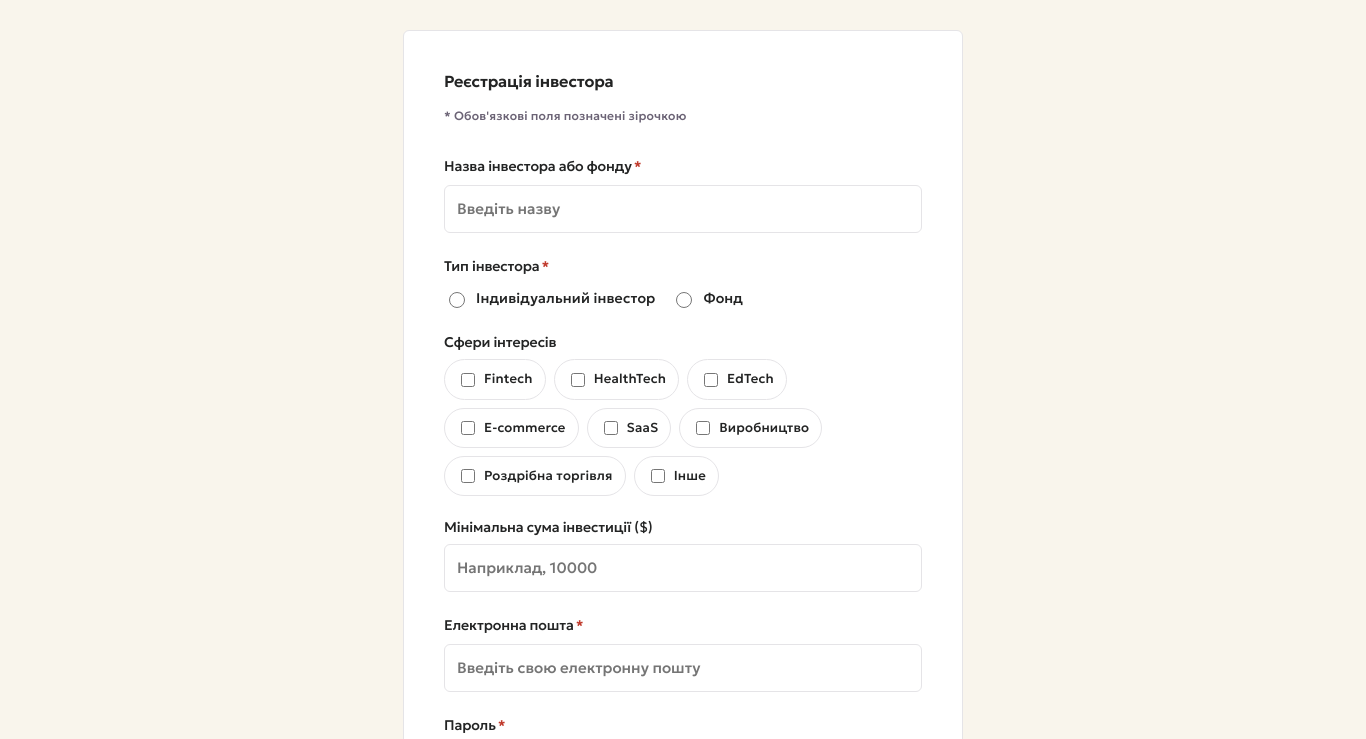
Test case: RegisterInvestor › blocks submit when terms are not accepted, even if everything else is valid
This screenshot has width=1366, height=739.
In the field labelled "Назва інвестора або фонду": (683,209) [444,185,922,233], type "Acme Capital"
Click the radio button labelled "Індивідуальний інвестор": (457,300) [449,292,465,308]
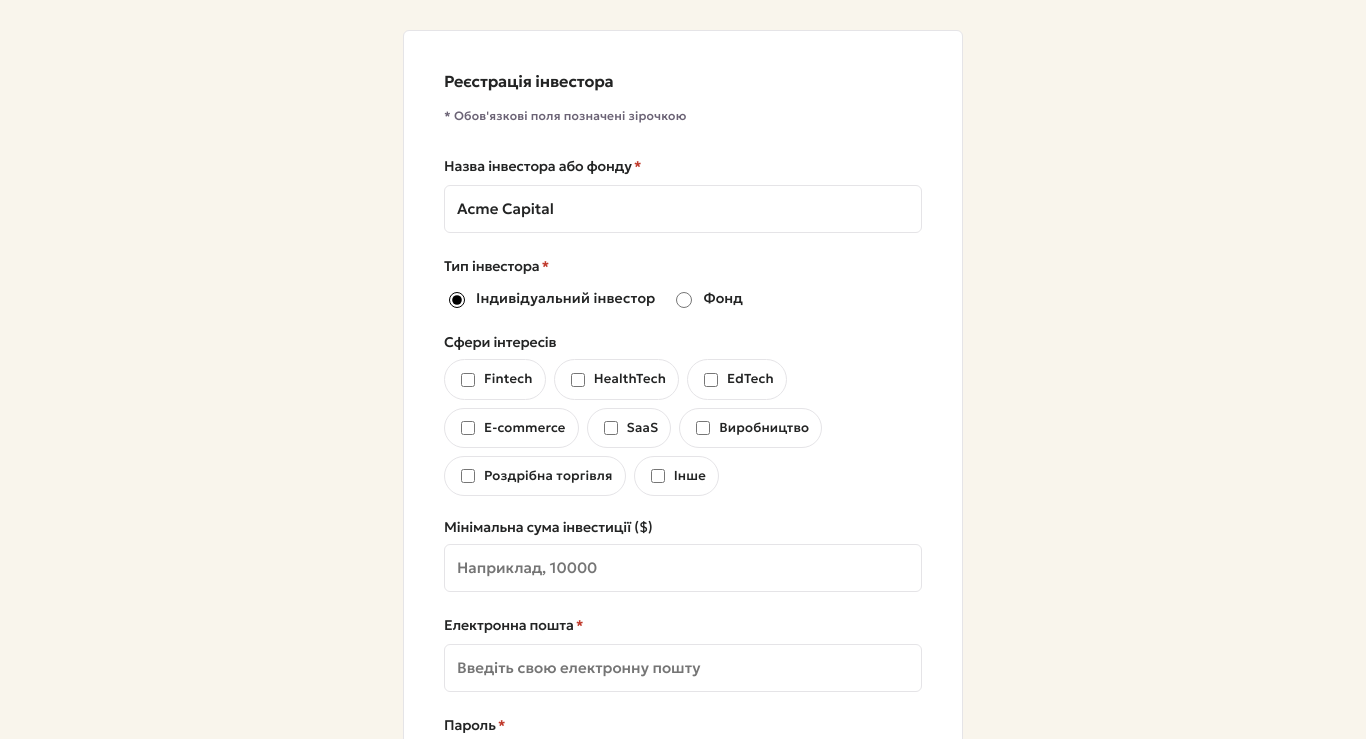
In the field labelled "Електронна пошта": (683,668) [444,644,922,692], type "alice@example.com"
(page scrolled)
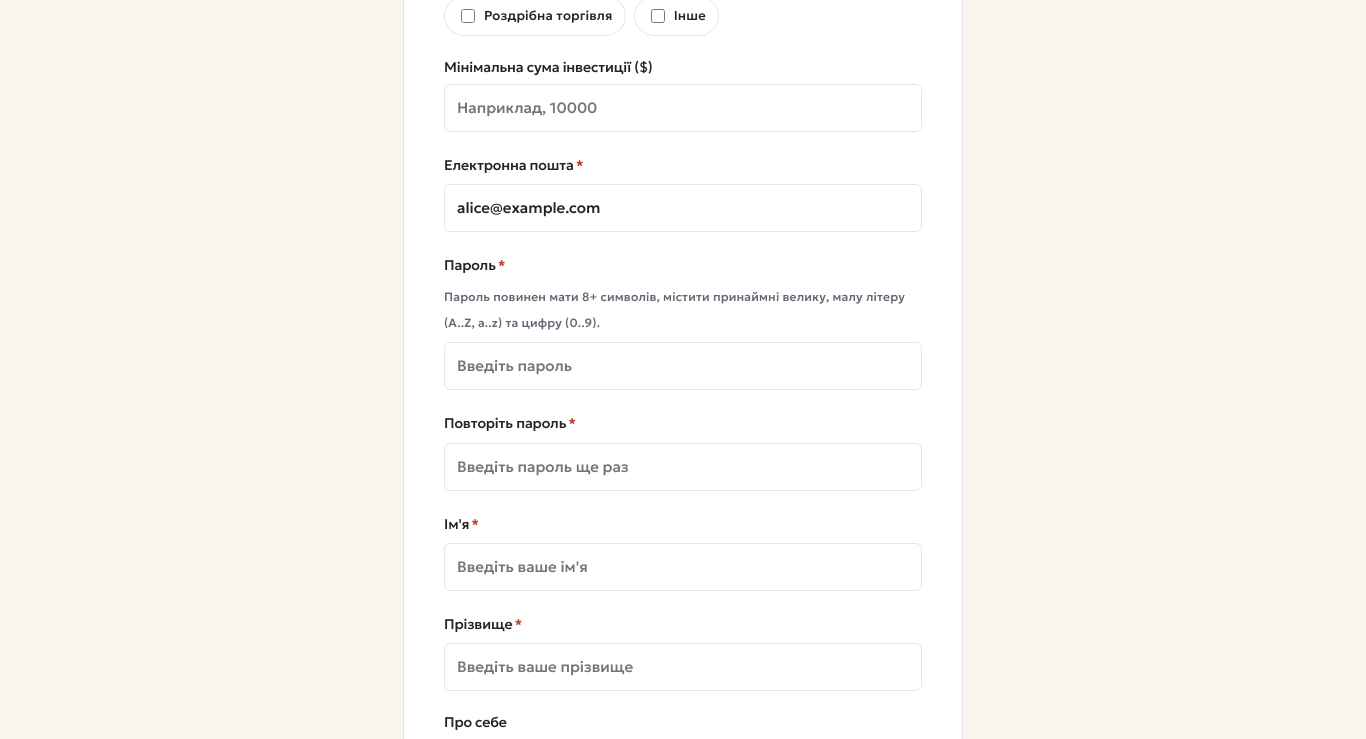
In the password field labelled "Пароль": (683,366) [444,342,922,390], type "StrongPass123"
In the password field labelled "Повторіть пароль": (683,467) [444,442,922,491], type "StrongPass123"
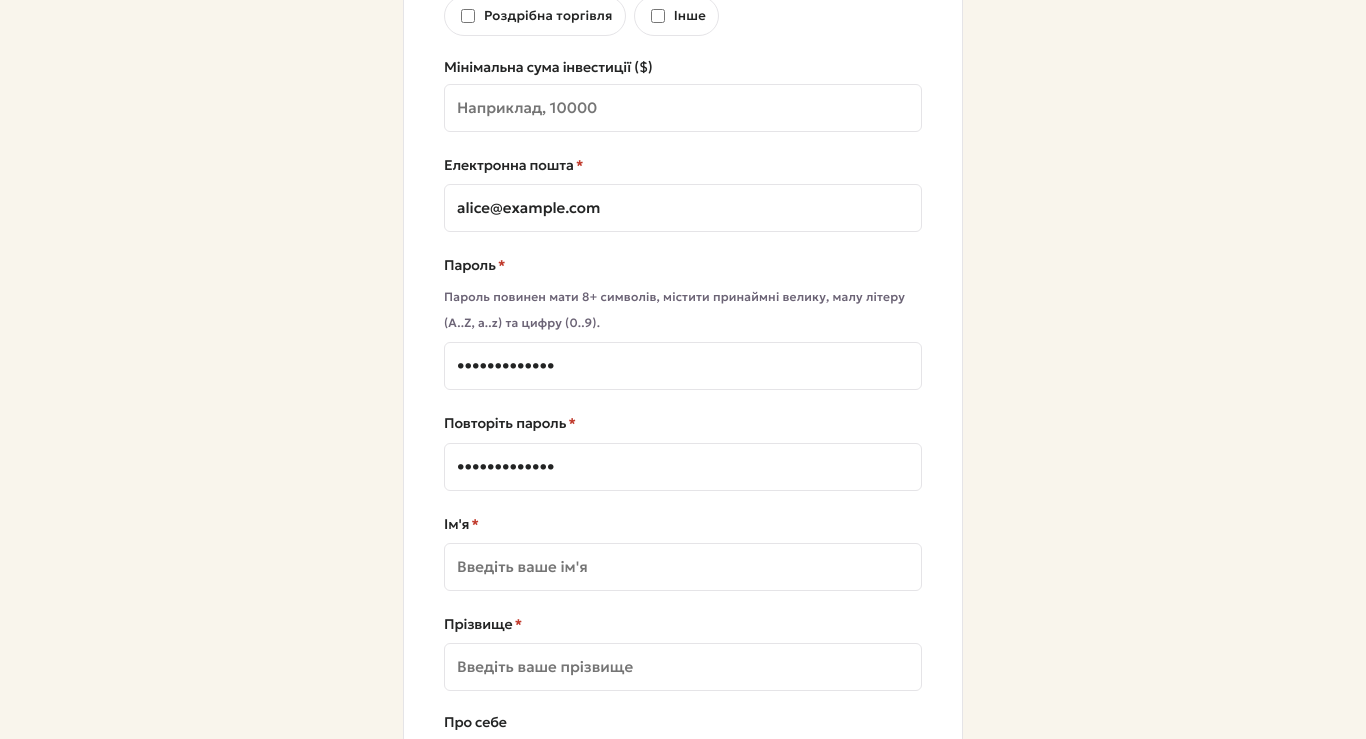
In the field labelled "Ім'я": (683,567) [444,543,922,591], type "Alice"
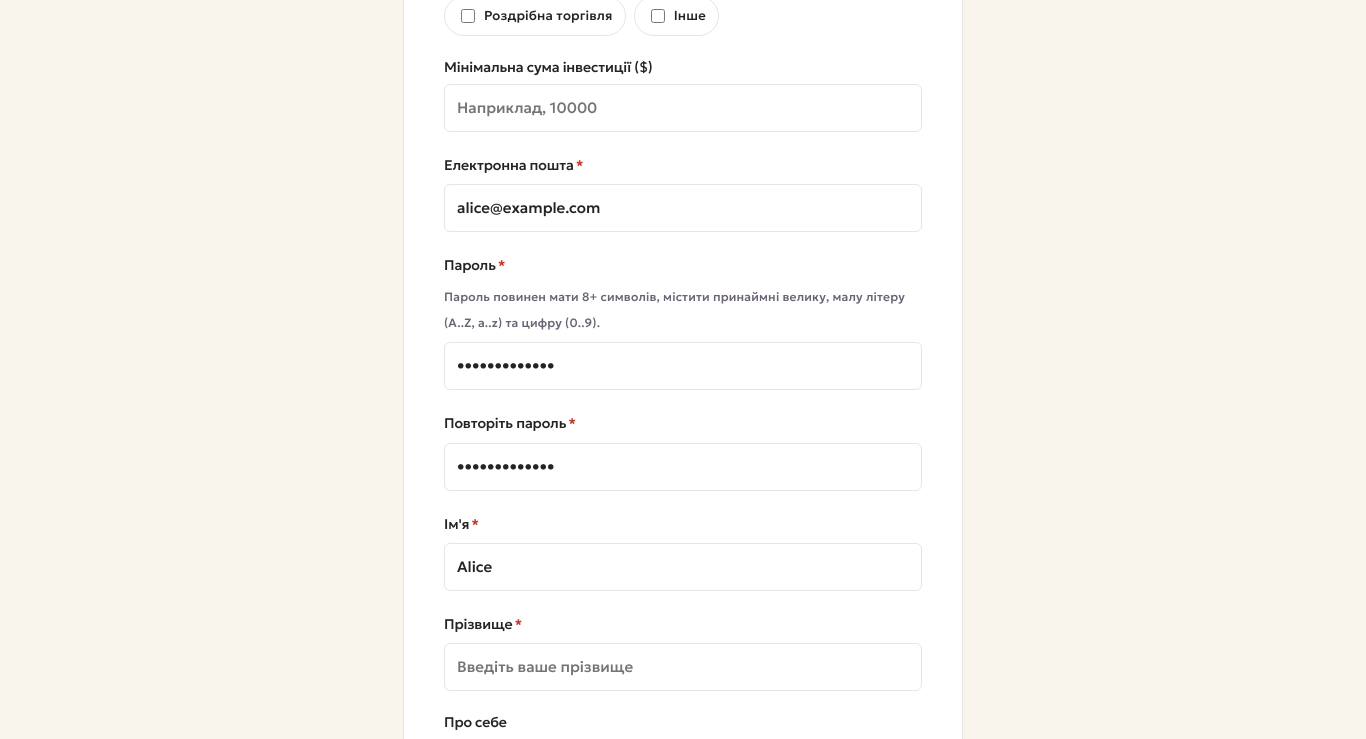
In the field labelled "Прізвище": (683,667) [444,643,922,691], type "Smith"
(page scrolled)
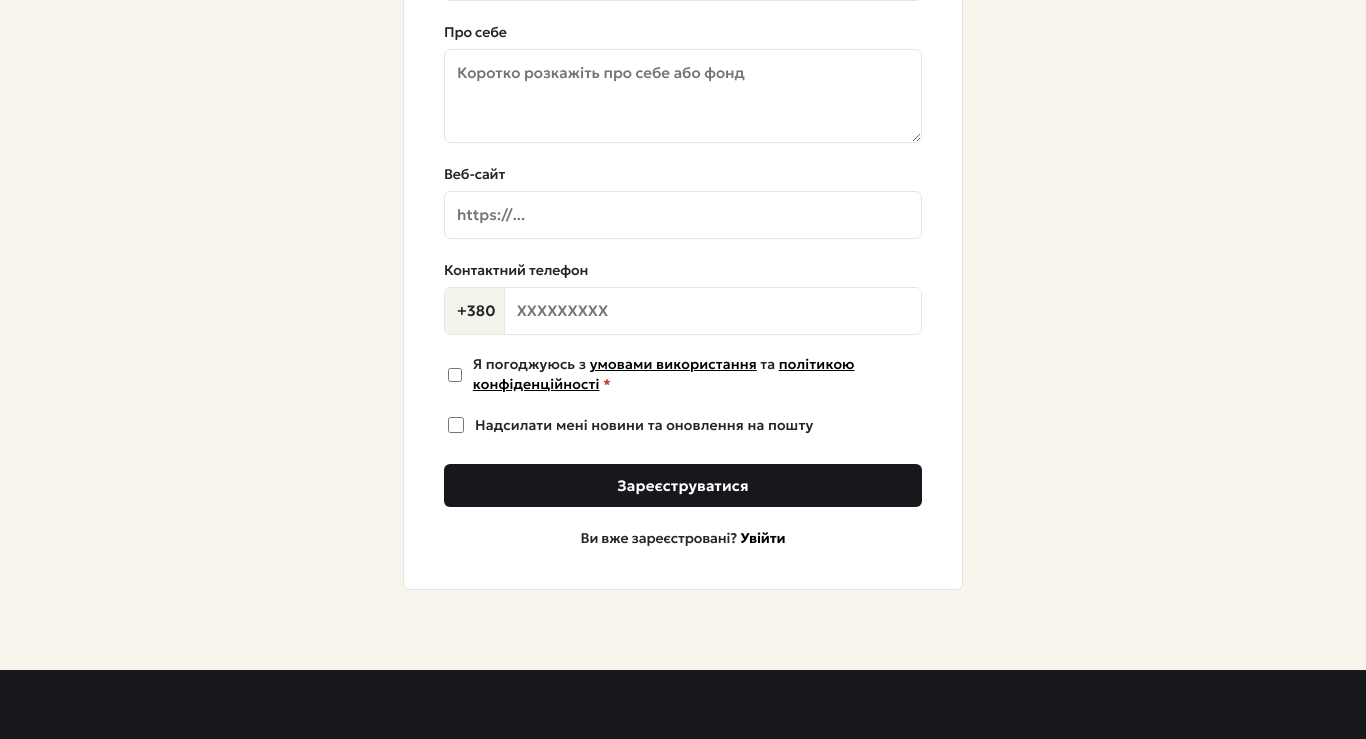
Click the button "Зареєструватися": (683,486) [444,464,922,507]
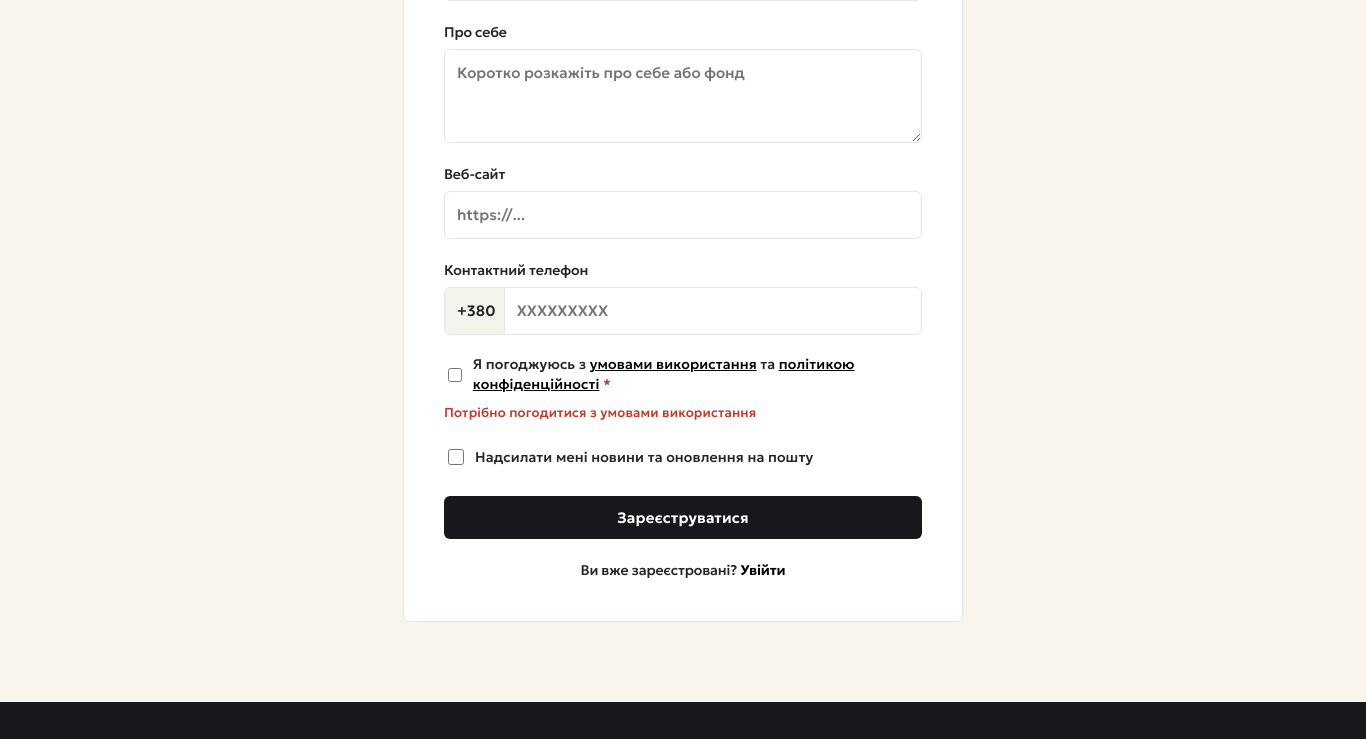
Check: the text "Потрібно погодитися з умовами використання" is shown, box [444,400,756,426]
